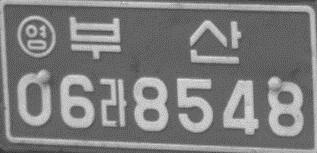0: (14, 71, 53, 127)
4: (222, 79, 259, 134)
5: (175, 76, 214, 134)
6: (57, 73, 95, 129)
8: (131, 75, 170, 133), (266, 79, 305, 137)
라: (97, 77, 129, 128)
부산_D: (69, 15, 243, 66)
영: (16, 14, 56, 58)
